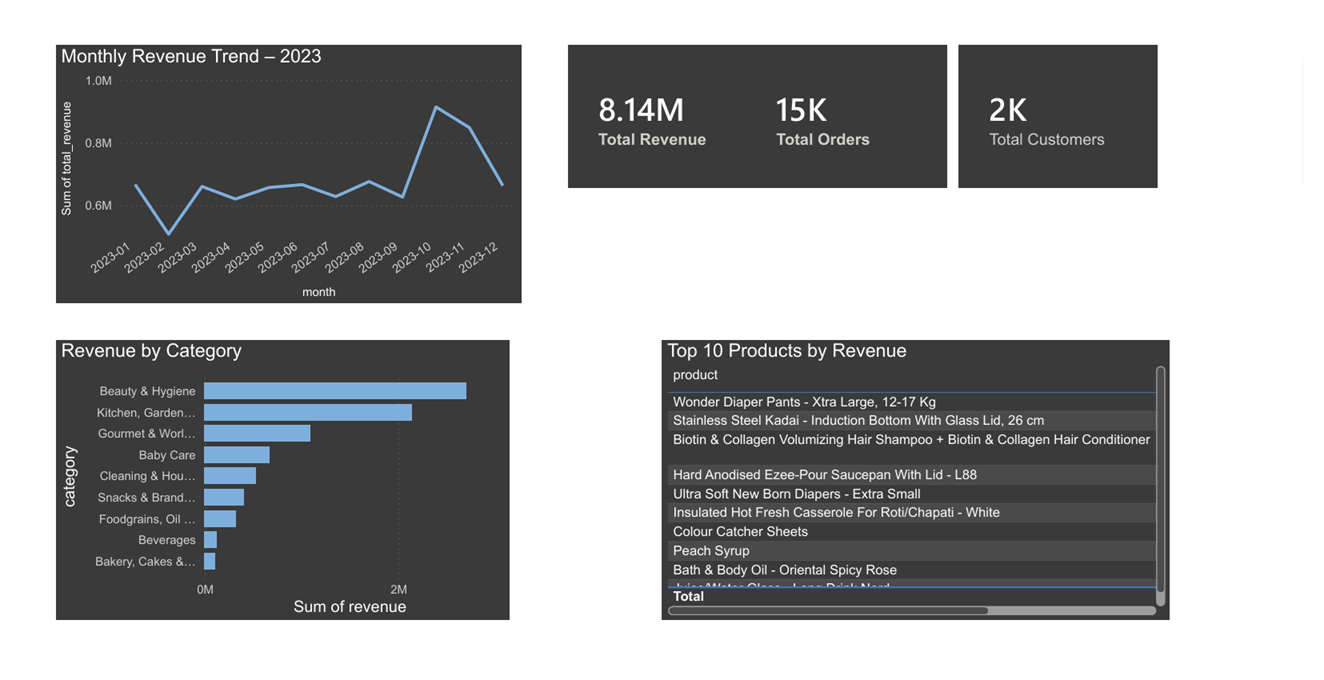

What the dashboard file says about the page in this screenshot:
{"tool":"powerbi","page":{"name":"Page 1","canvas":[1280,720],"ordinal":0},"visuals":[{"type":"lineChart","title":"Monthly Revenue Trend – 2023","fields":{"Category":["bigbasket_analysis vw_monthly_summary.month"],"Y":["Sum(bigbasket_analysis vw_monthly_summary.total_revenue)"]},"box":[32.9,22,465.2,258],"z":0},{"type":"cardVisual","fields":{"Data":["Sum(bigbasket_analysis vw_monthly_summary.total_revenue)"]},"box":[528.3,22,178.4,142.7],"z":1},{"type":"cardVisual","fields":{"Data":["Sum(bigbasket_analysis vw_monthly_summary.total_orders)"]},"box":[706.7,22,200.3,142.7],"z":2},{"type":"cardVisual","fields":{"Data":["Count(bigbasket_analysis vw_customer_rfm.customer_id)"]},"box":[907,22,199,142.7],"z":3},{"type":"clusteredBarChart","title":"Revenue by Category","fields":{"Category":["bigbasket_analysis orders.category"],"Y":["Sum(bigbasket_analysis orders.revenue)"]},"box":[32.9,317,452.8,279.9],"z":4},{"type":"tableEx","title":"Top 10 Products by Revenue","fields":{"Values":["bigbasket_analysis vw_orders_full.product","bigbasket_analysis vw_orders_full.category","Sum(bigbasket_analysis vw_orders_full.revenue)"]},"box":[528.3,317,507.7,279.9],"z":5}]}

Visuals, with their boxes on the page's 1280x720 design canvas (x1, y1, x2, y2). These are canvas units, not pixel positions in the 1324x680 screenshot, which may show the page scaled, cropped or inside an application window:
"Monthly Revenue Trend – 2023" lineChart: crop(33, 22, 498, 280)
cardVisual - Sum(bigbasket_analysis vw_monthly_summary.total_revenue): crop(528, 22, 707, 165)
cardVisual - Sum(bigbasket_analysis vw_monthly_summary.total_orders): crop(707, 22, 907, 165)
cardVisual - Count(bigbasket_analysis vw_customer_rfm.customer_id): crop(907, 22, 1106, 165)
"Revenue by Category" clusteredBarChart: crop(33, 317, 486, 597)
"Top 10 Products by Revenue" tableEx: crop(528, 317, 1036, 597)
